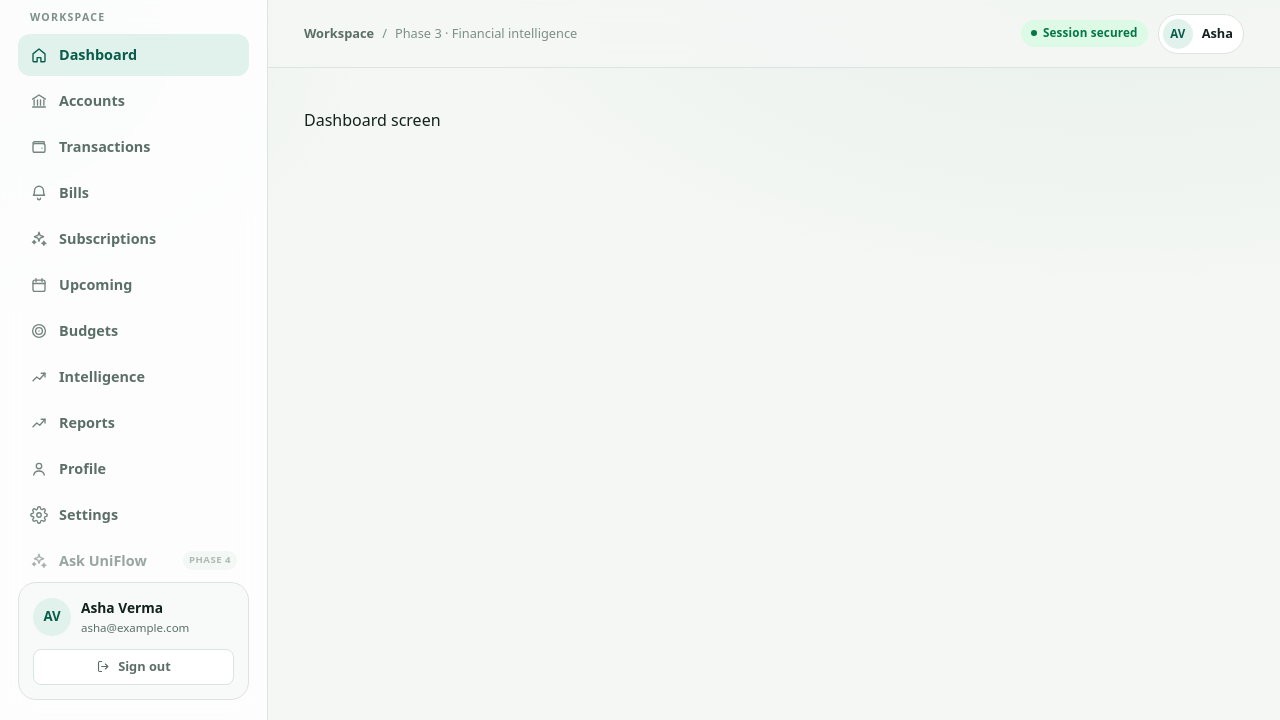
Scenario: app shell sign-out › explains a network failure without leaving the page
The image size is (1280, 720).
(page scrolled)
Step 1. Click the button "Sign out" → {"x": 134, "y": 667}, box x1=33 y1=649 x2=234 y2=685
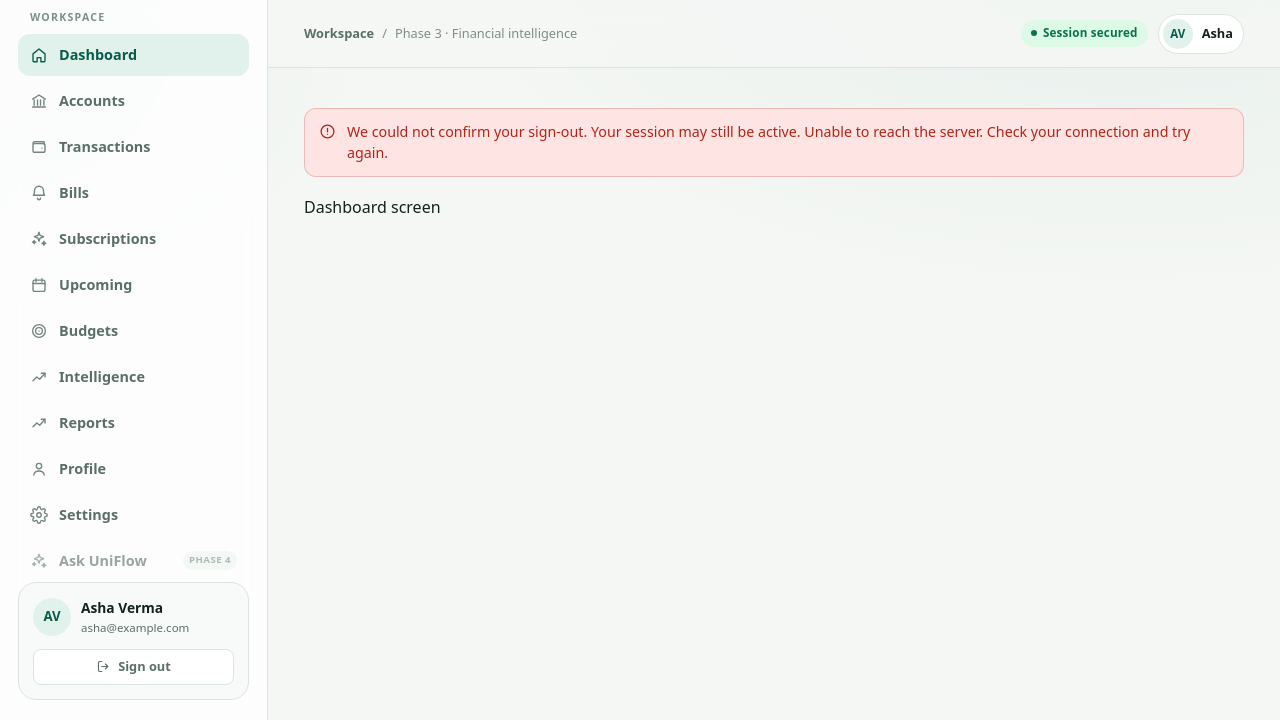
Expected: the text "Dashboard screen" is shown, x1=304 y1=196 x2=441 y2=218
Now the message shows "Unable to reach the server.", box x1=347 y1=122 x2=1190 y2=162
